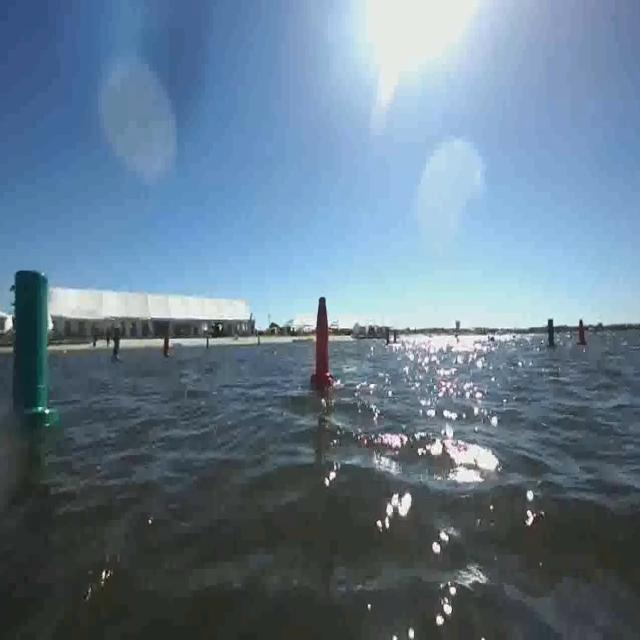green-column-buoy: (5, 267, 57, 431), (110, 330, 124, 364), (547, 319, 558, 349)
red-column-buoy: (311, 293, 335, 388), (575, 321, 586, 348), (161, 334, 170, 359)
